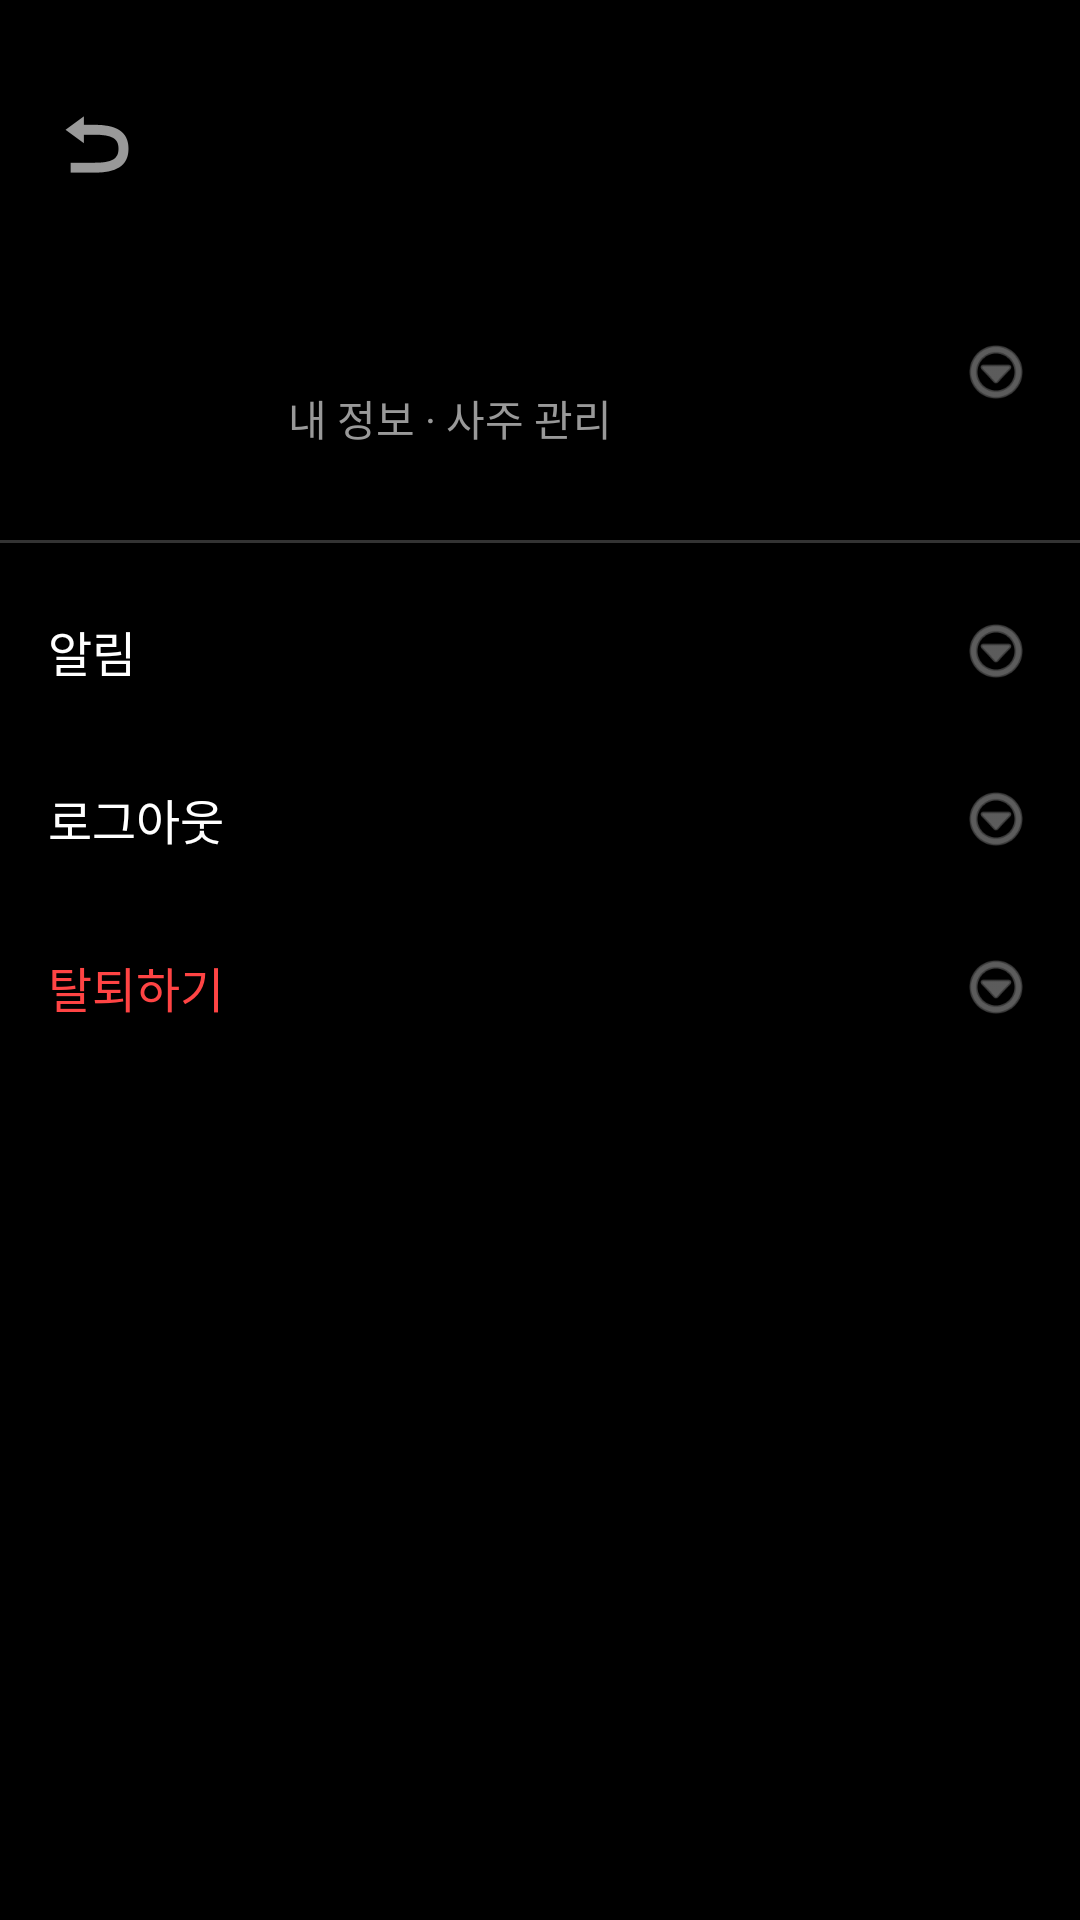

Screen size 1080px x 1920px. Icon name, then its box in pixels as Rect(x1, y1, x2, y2):
더보기: Rect(969, 346, 1023, 399), Rect(969, 625, 1023, 678), Rect(969, 793, 1023, 846), Rect(969, 961, 1023, 1014)
뒤로가기: Rect(66, 116, 129, 173)
